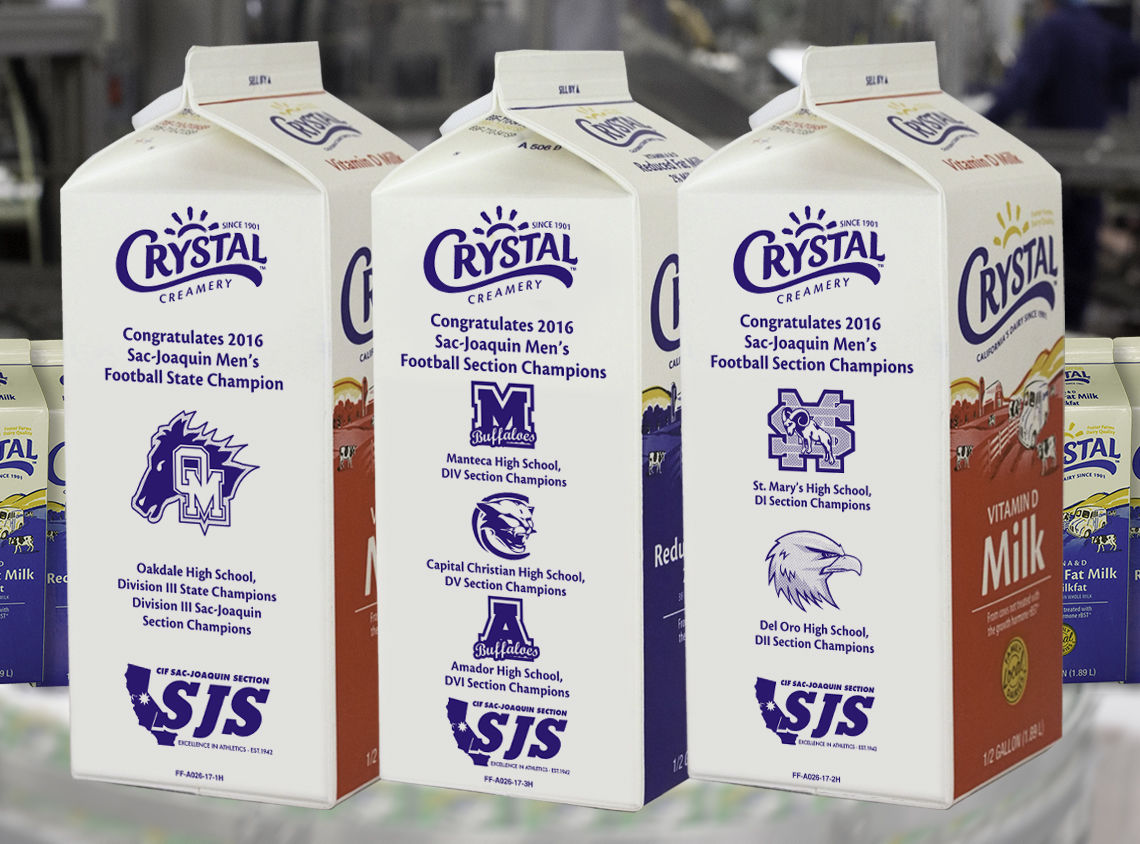Milk_Carton: (684, 43, 1064, 781), (61, 36, 383, 799), (385, 51, 710, 770)
